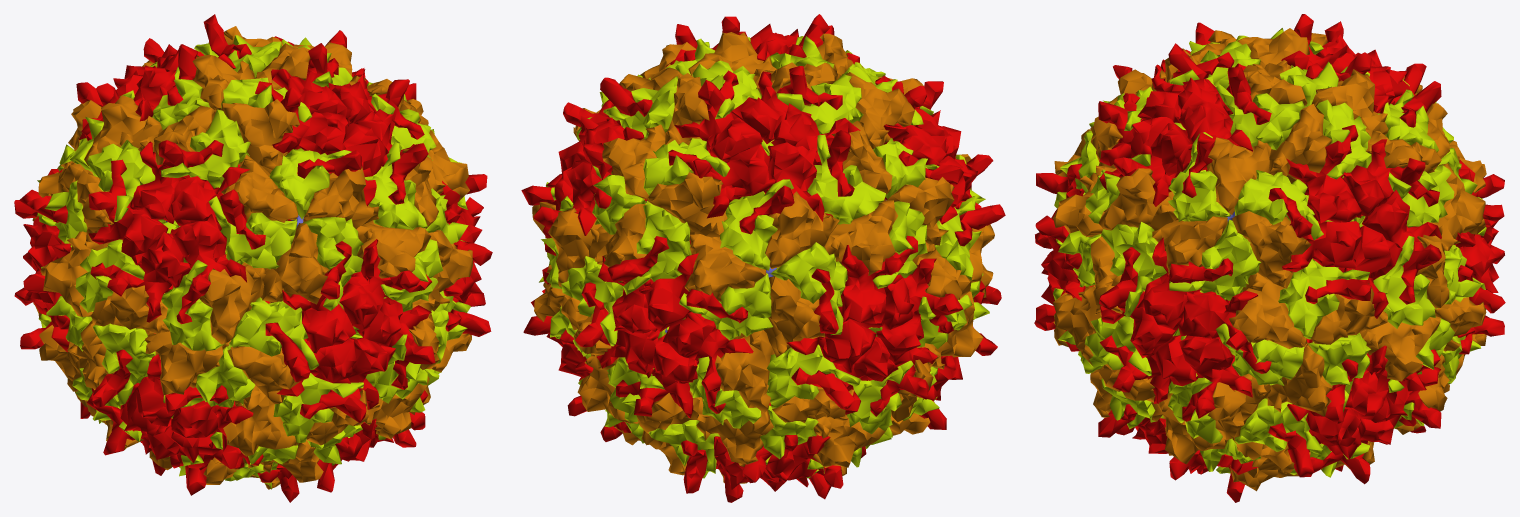
The model's file is rhinovirus.glb.
The picture shows the model from 3 angles, left to right: view 1: azimuth 30°, elevation 25°; view 2: azimuth 150°, elevation 25°; view 3: azimuth 270°, elevation 25°; orthographic projection.
Size of the model in its own units: 334 by 323 by 319.
